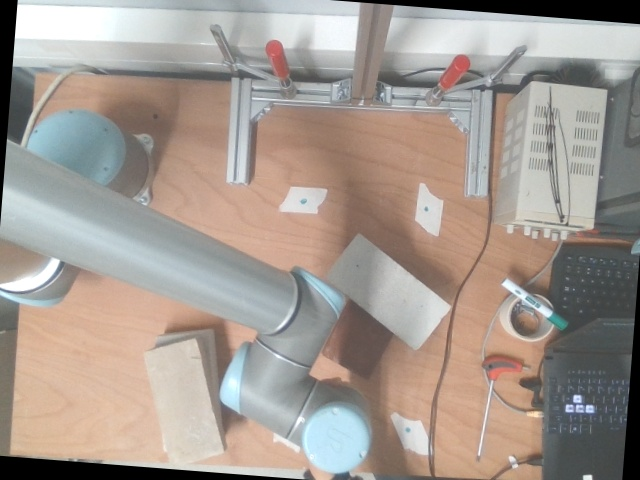brick: (140, 342, 223, 467)
